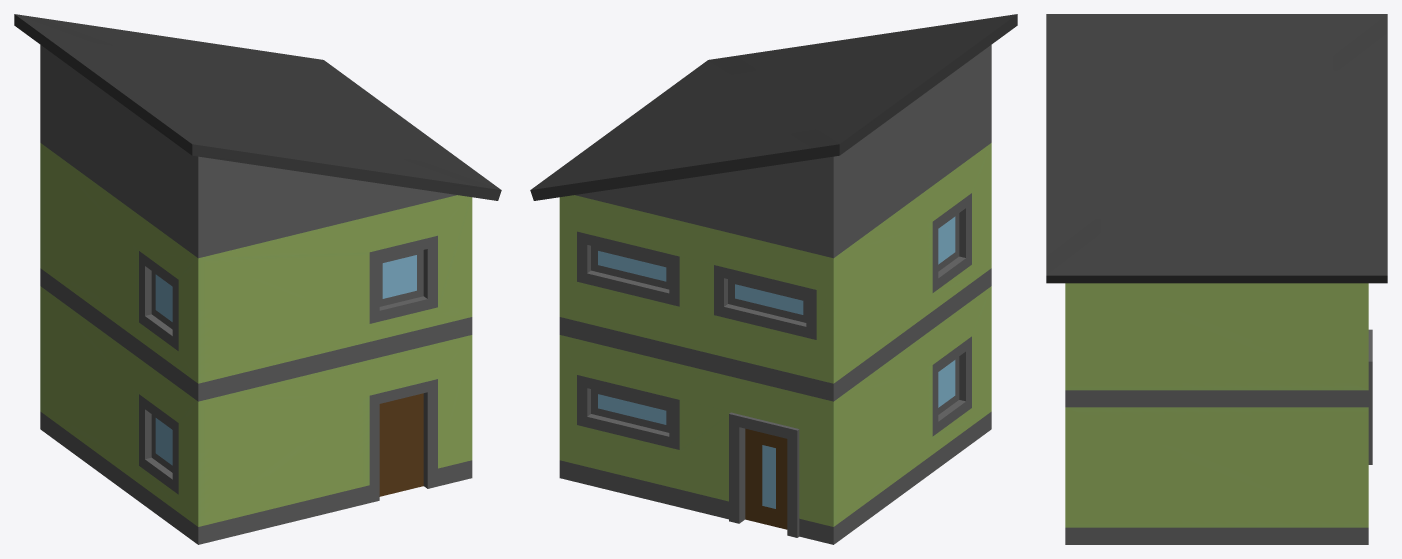
The model's file is house_type15.fbx.
3 views of the same model, side by side, from view 1: azimuth 30°, elevation 25°; view 2: azimuth 150°, elevation 25°; view 3: azimuth 270°, elevation 25° (orthographic). The views are drawn at different scales.
Visible parts, largest first — view 1: house_type15; view 2: house_type15; view 3: house_type15.
Boxes of the visible parts, x1,y1,x2,y2 form: house_type15: [14, 14, 501, 544]; house_type15: [530, 14, 1017, 544]; house_type15: [1046, 14, 1387, 544].
Bounding box in the file's own units: 9.04 × 11.5 × 9.
1 material, 1 textured.
